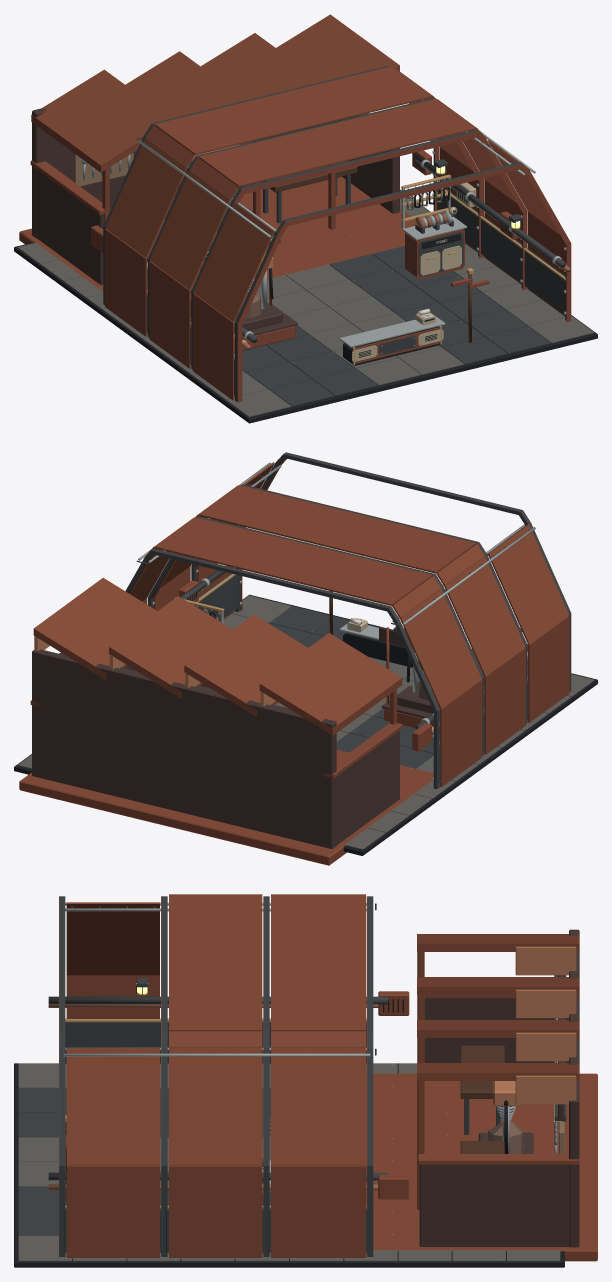
The model's file is scorchmaw-outfit.glb.
The picture shows the model from 3 angles, top to bottom: view 1: azimuth 30°, elevation 25°; view 2: azimuth 150°, elevation 25°; view 3: azimuth 270°, elevation 25°; orthographic projection. The views are drawn at different scales.
Parts seen in each view (by area): view 1: scorchmaw-outfit; view 2: scorchmaw-outfit; view 3: scorchmaw-outfit.
Part boxes in pixels (left/top/right/bottom): scorchmaw-outfit: left=14, top=14, right=597, bottom=423; scorchmaw-outfit: left=14, top=452, right=597, bottom=865; scorchmaw-outfit: left=14, top=894, right=597, bottom=1267.
Size of the model in its own units: 17.08 by 8.43 by 21.15.
21 materials, 18 textured.
